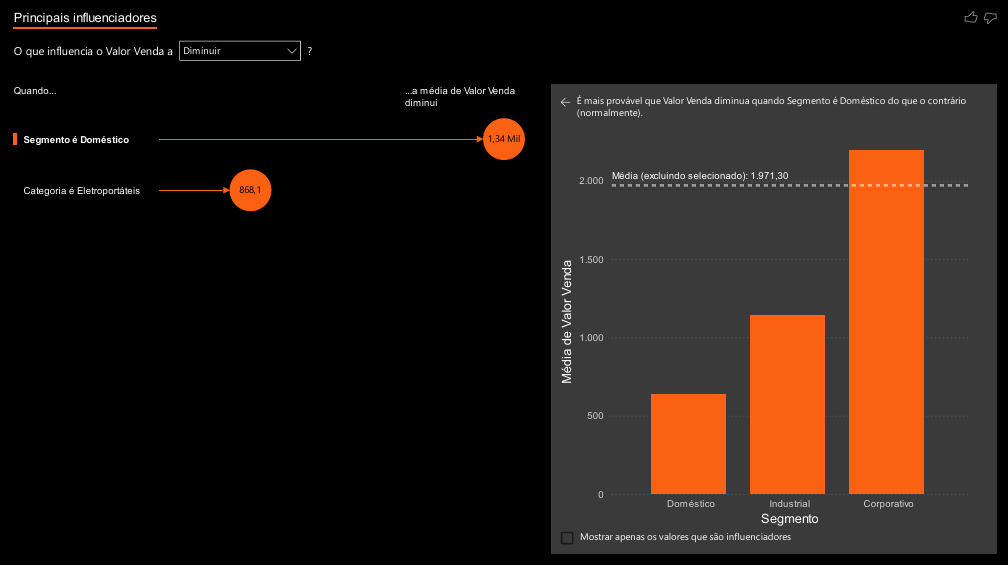

This screenshot's page, from the dashboard's own definition file:
{"tool":"powerbi","page":{"name":"Principais Influenciadores de Vendas","canvas":[1280,720],"ordinal":2},"visuals":[{"type":"keyDriversVisual","fields":{"Target":["Vendas.ValorVenda"],"ExplainBy":["Vendas.Segmento","Vendas.Categoria"]},"box":[10.3,0,1262.3,707.5],"z":0}]}

Visuals, with their boxes in screenshot pixels (x1, y1, x2, y2), scaled from the page's 1280x720 canvas onto the 1008x565 screenshot:
keyDriversVisual - Vendas.ValorVenda x Vendas.Segmento: (x1=8, y1=0, x2=1002, y2=555)
